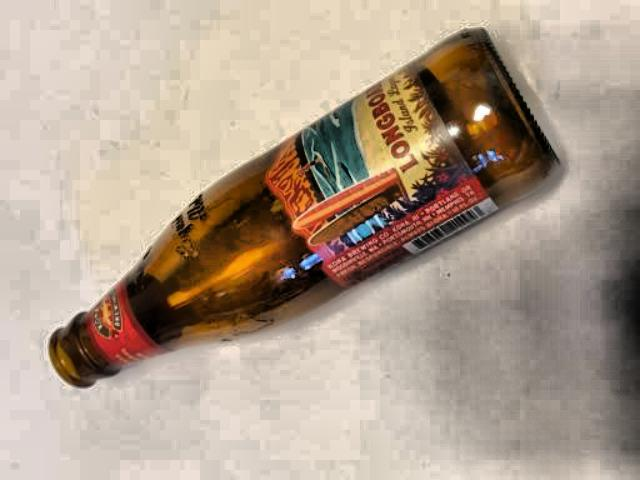Bottles: (42, 17, 577, 401)
